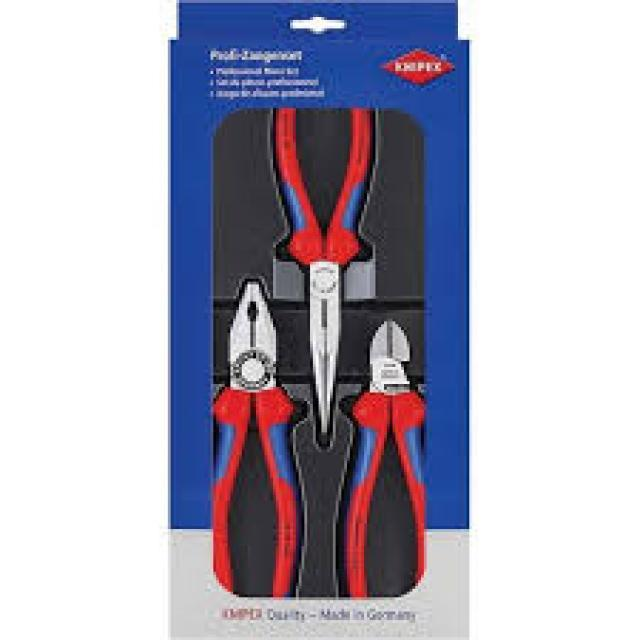pliers: (263, 97, 376, 450), (202, 276, 304, 614), (338, 316, 429, 608)
